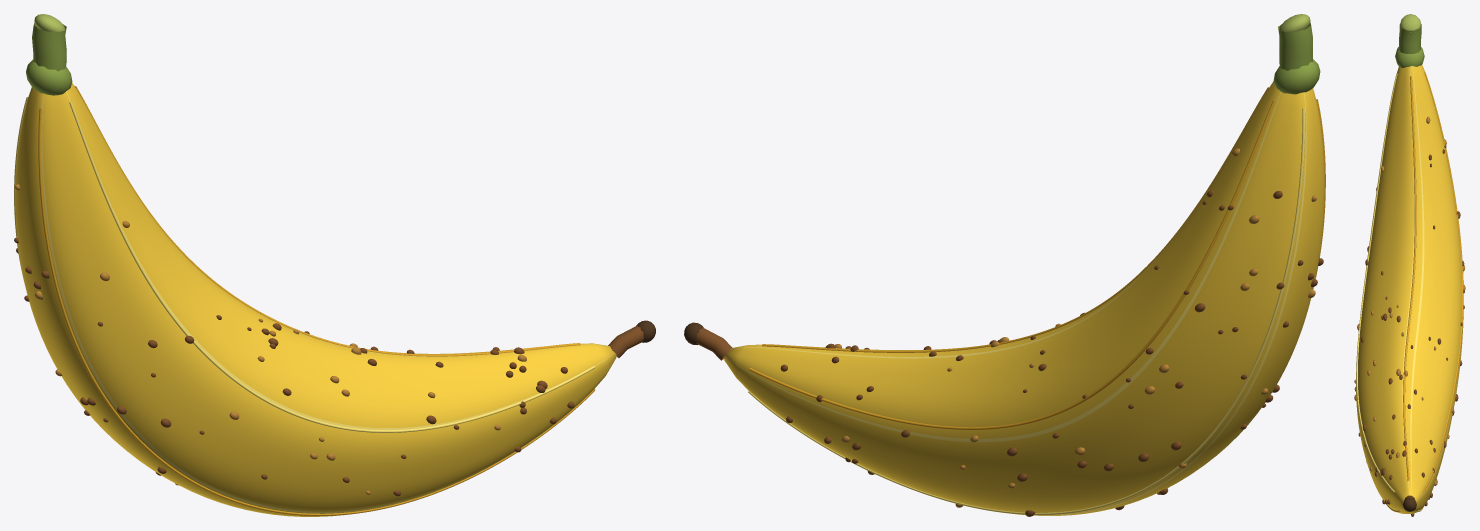
Rendered from Platano.glb.
The picture shows the model from 3 angles, left to right: view 1: azimuth 30°, elevation 25°; view 2: azimuth 150°, elevation 25°; view 3: azimuth 270°, elevation 25°; orthographic projection. The views are drawn at different scales.
Parts seen in each view (by area): view 1: Platano_Premium_MESH; view 2: Platano_Premium_MESH; view 3: Platano_Premium_MESH.
Boxes of the visible parts, x1,y1,x2,y2 form: Platano_Premium_MESH: [14, 14, 655, 516]; Platano_Premium_MESH: [684, 14, 1325, 516]; Platano_Premium_MESH: [1354, 14, 1465, 516].
Size of the model in its own units: 2.87 by 2.44 by 0.6754.
